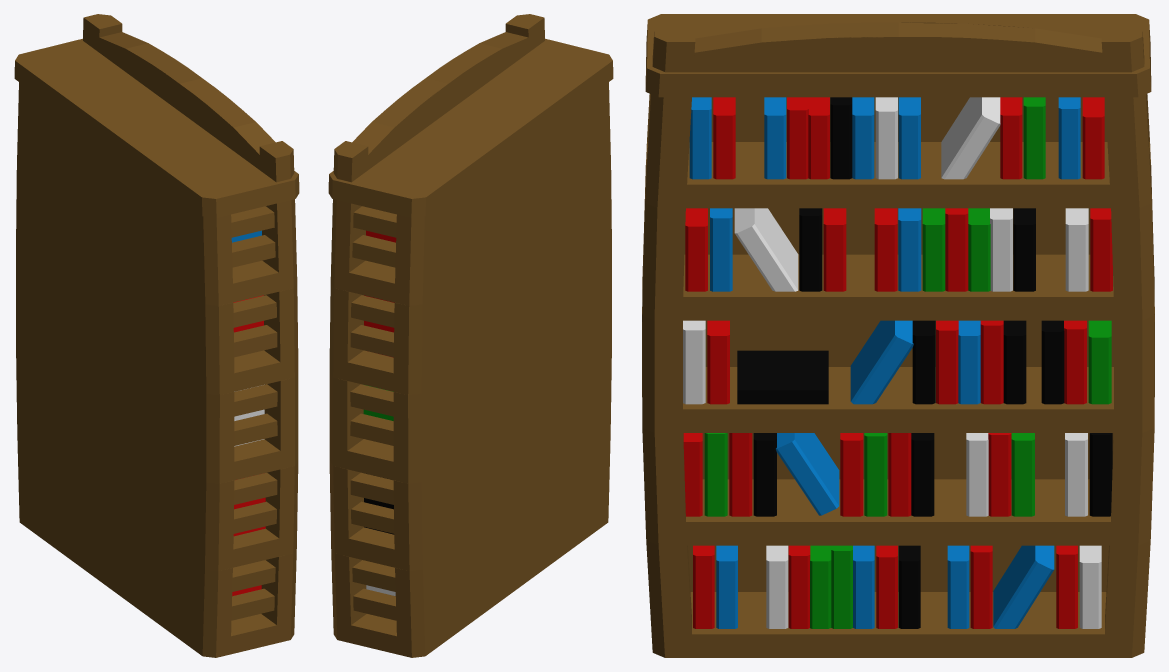
File: Bookcase.fbx
3 views of the same model, side by side, from view 1: azimuth 30°, elevation 25°; view 2: azimuth 150°, elevation 25°; view 3: azimuth 270°, elevation 25° (orthographic). The views are drawn at different scales.
Visible parts, largest first — view 1: Cube.023, Cube.022; view 2: Cube.023, Cube.022; view 3: Cube.023, Cube.022.
Part boxes in pixels (box(x1,y1,x2,y2)): Cube.023: box(14, 14, 299, 657); Cube.022: box(231, 230, 265, 595); Cube.023: box(328, 14, 613, 657); Cube.022: box(363, 230, 396, 595); Cube.023: box(642, 14, 1154, 657); Cube.022: box(683, 97, 1112, 628).
Bounding box in the file's own units: 115 × 555 × 415.
